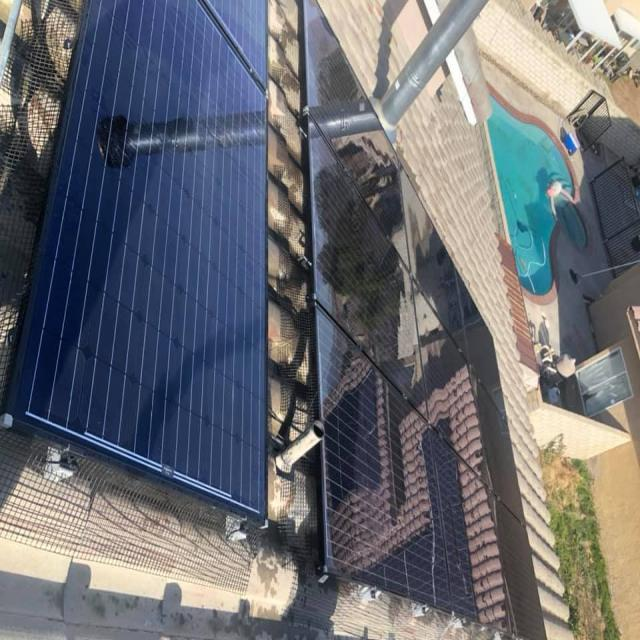clean-solar-panel: (304, 3, 542, 637), (8, 0, 266, 520)
